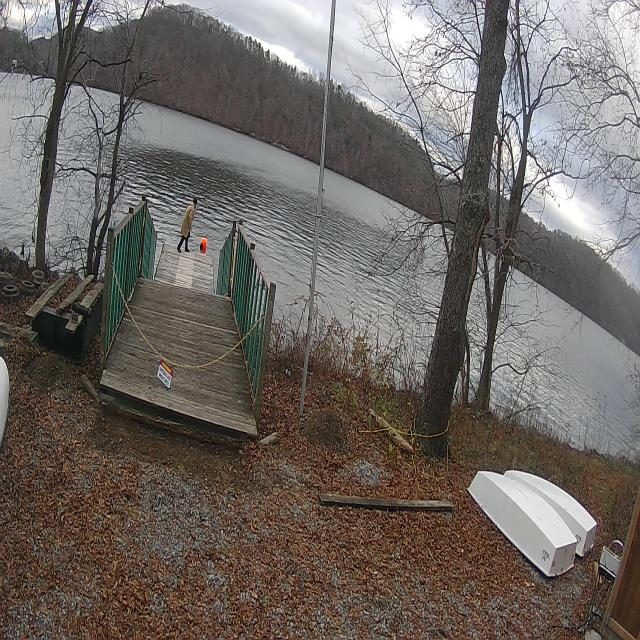Buoy: (200, 235, 208, 253)
